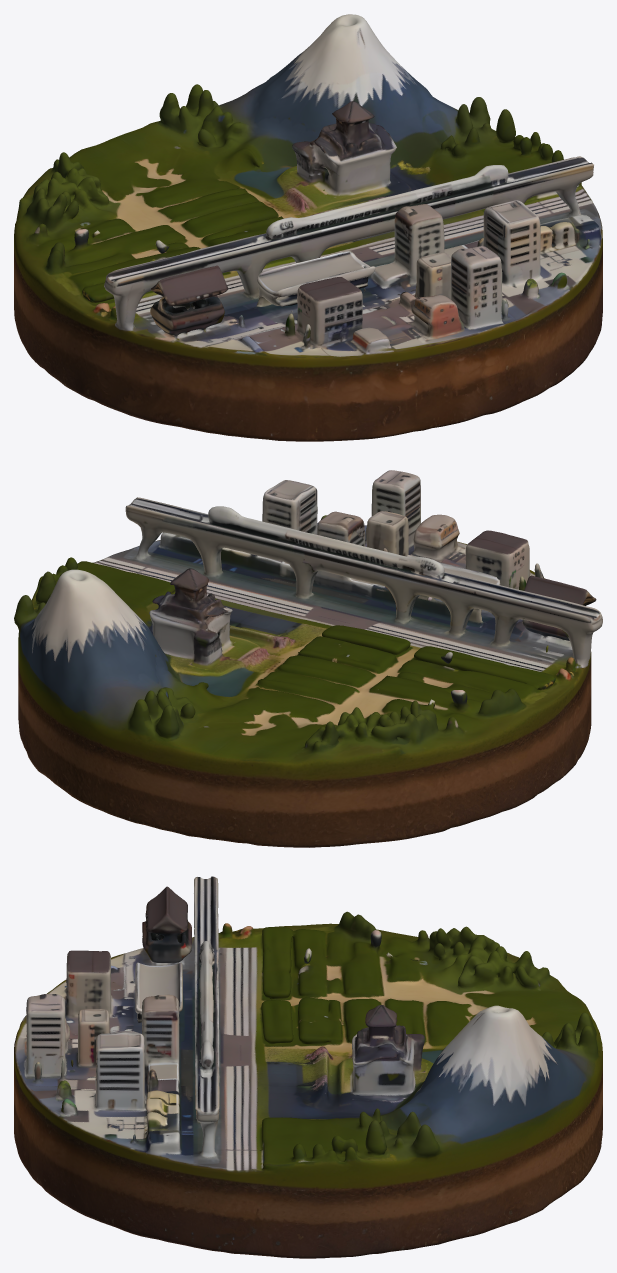
The model's file is Shizuoka_Japan.glb.
The picture shows the model from 3 angles, top to bottom: view 1: azimuth 30°, elevation 25°; view 2: azimuth 150°, elevation 25°; view 3: azimuth 270°, elevation 25°; orthographic projection. The views are drawn at different scales.
Visible parts, largest first — view 1: tripo_node_a8aae822-9812-42e9-9682-fa636e132878; view 2: tripo_node_a8aae822-9812-42e9-9682-fa636e132878; view 3: tripo_node_a8aae822-9812-42e9-9682-fa636e132878.
Boxes of the visible parts, x1=… form: tripo_node_a8aae822-9812-42e9-9682-fa636e132878: x1=14, y1=14, x2=602, y2=441; tripo_node_a8aae822-9812-42e9-9682-fa636e132878: x1=14, y1=470, x2=602, y2=847; tripo_node_a8aae822-9812-42e9-9682-fa636e132878: x1=14, y1=876, x2=602, y2=1258.
Size of the model in its own units: 0.9993 by 0.3624 by 0.999.
1 material, 1 textured.
